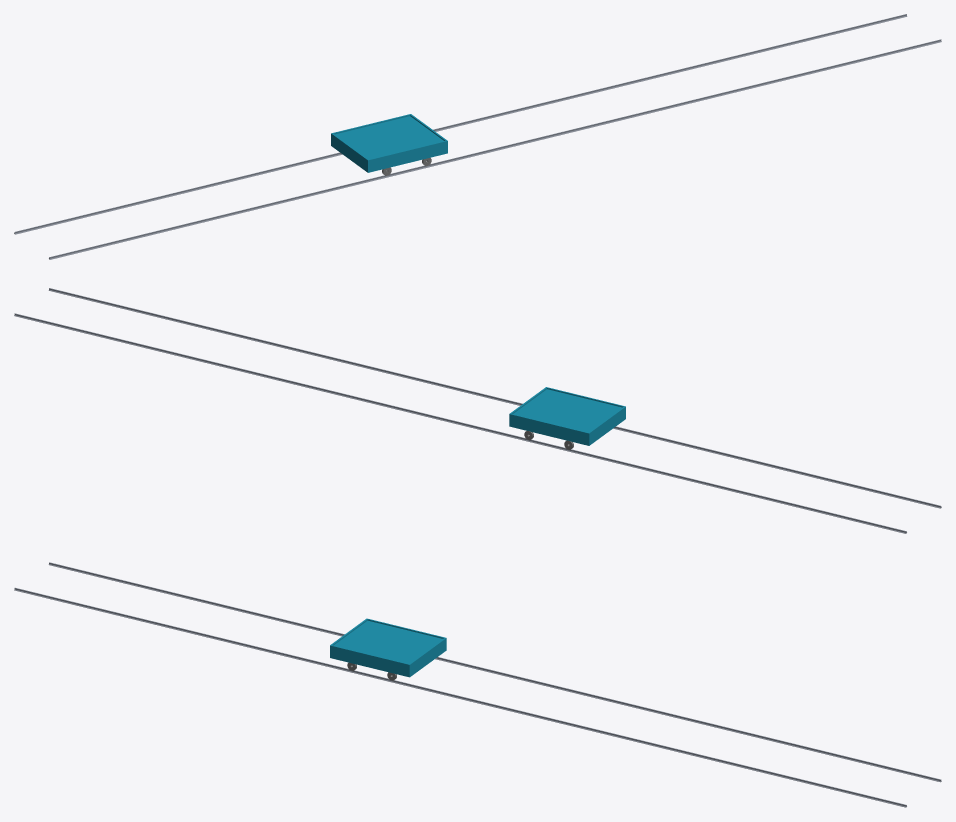
File: XIAOCHE_OK.fbx
3 renders of one model, top to bottom at view 1: azimuth 30°, elevation 25°; view 2: azimuth 150°, elevation 25°; view 3: azimuth 330°, elevation 25°, orthographic.
Parts seen in each view (by area): view 1: gui, che; view 2: gui, che; view 3: gui, che.
Boxes of the visible parts, x1=… form: gui: x1=14, y1=14, x2=941, y2=259; che: x1=331, y1=114, x2=447, y2=175; gui: x1=14, y1=288, x2=941, y2=533; che: x1=509, y1=387, x2=625, y2=449; gui: x1=14, y1=562, x2=941, y2=807; che: x1=330, y1=618, x2=446, y2=680.
Bounding box in the file's own units: 2230 × 55.06 × 161.
